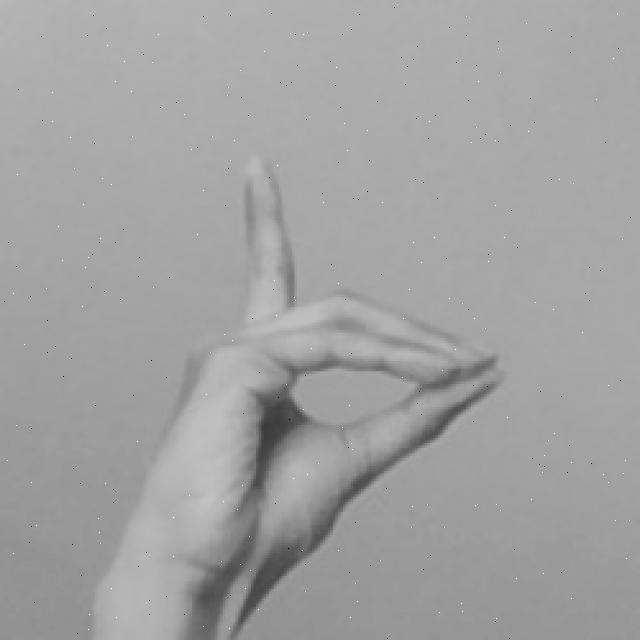D: (82, 148, 504, 640)
